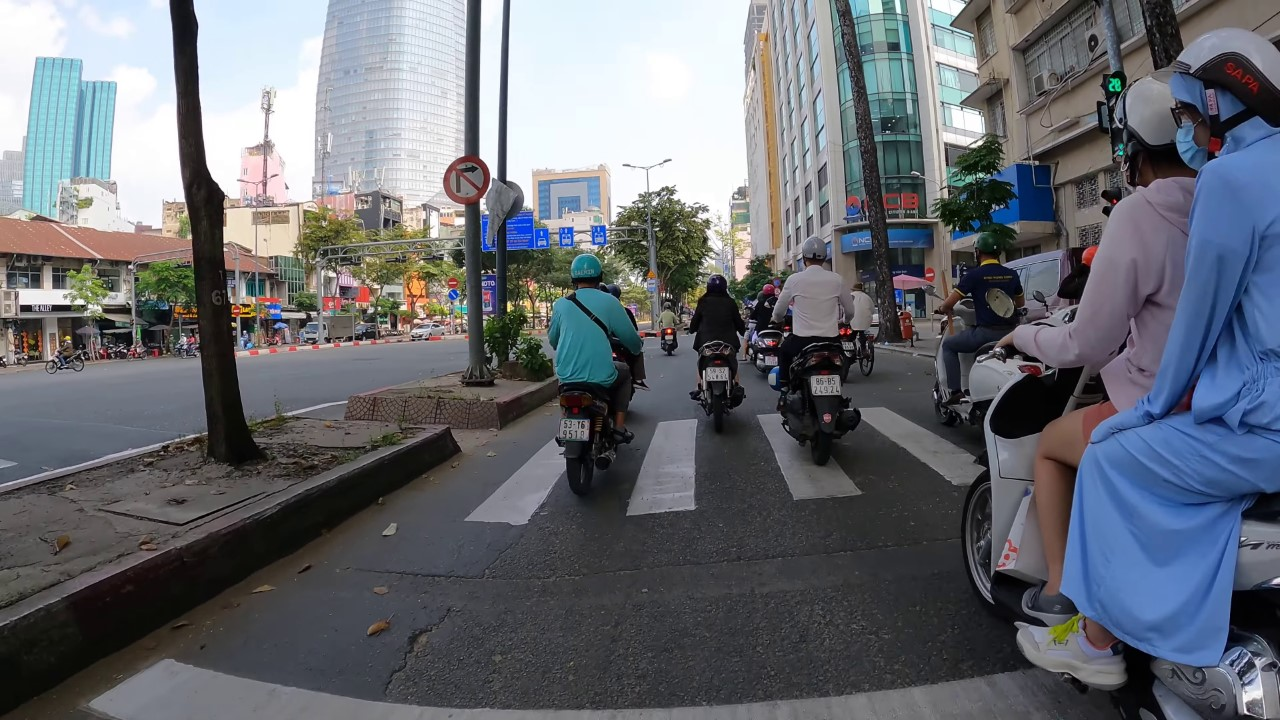cam_re_phai: (438, 149, 494, 207)
